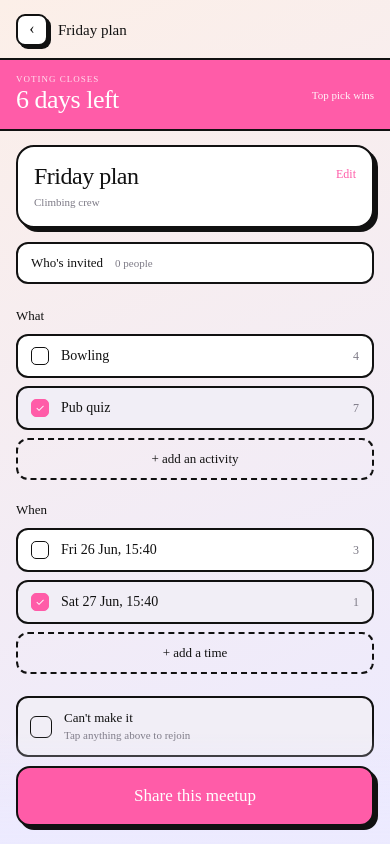
Scenario: EventDetail - adding a time is bounded and fails gracefully › a server reject surfaces as an inline line and the vote board stays (no full-screen error)
Expected: the text "Bowling" is shown, x1=61 y1=348 x2=109 y2=363
Click the text "+ add a time": (195, 653) x1=163 y1=645 x2=227 y2=661
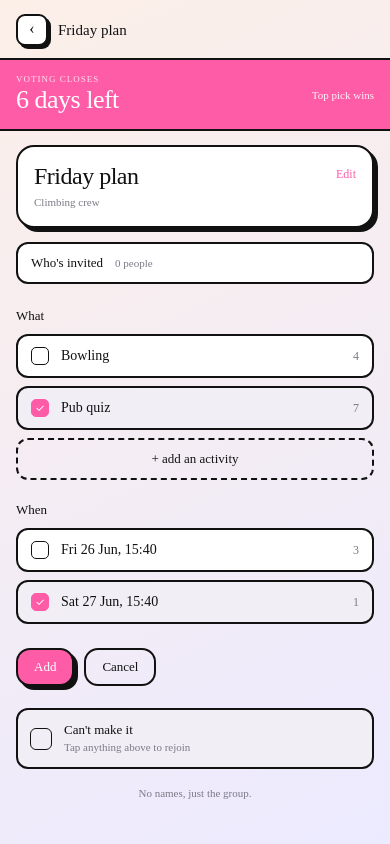
Click the text "Add": (45, 667) x1=34 y1=659 x2=56 y2=675
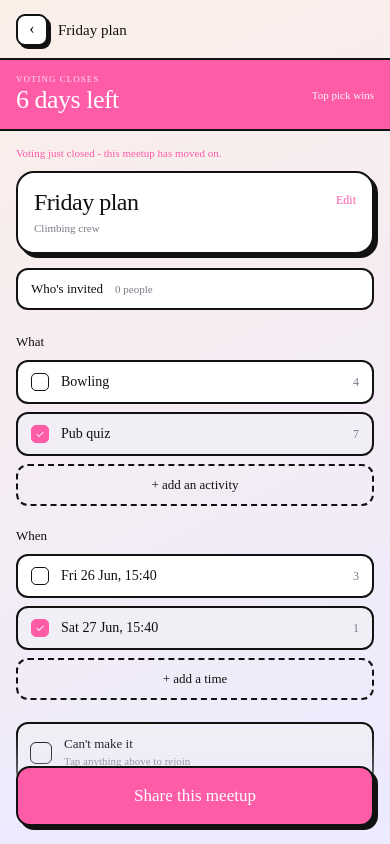
Expected: the text "Bowling" is shown, x1=61 y1=374 x2=109 y2=389
Expected: the text "Voting just closed - this meetup has moved on." is shown, x1=16 y1=147 x2=221 y2=159
